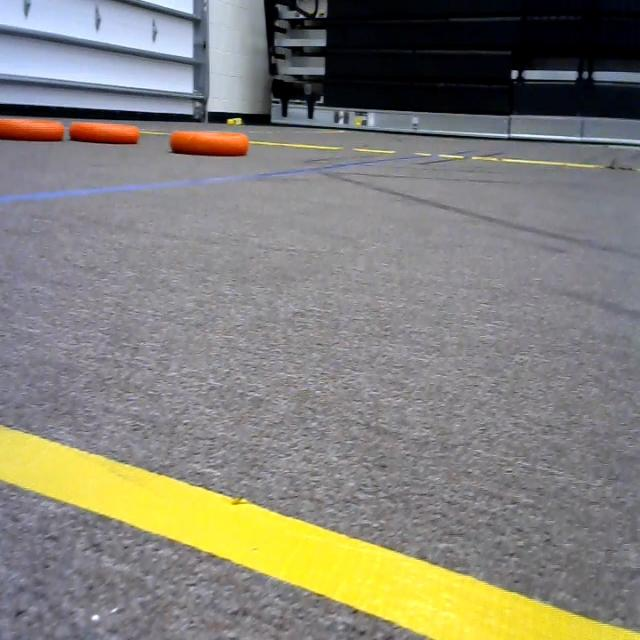note: (170, 114, 258, 163), (0, 102, 64, 150), (66, 112, 140, 152)
